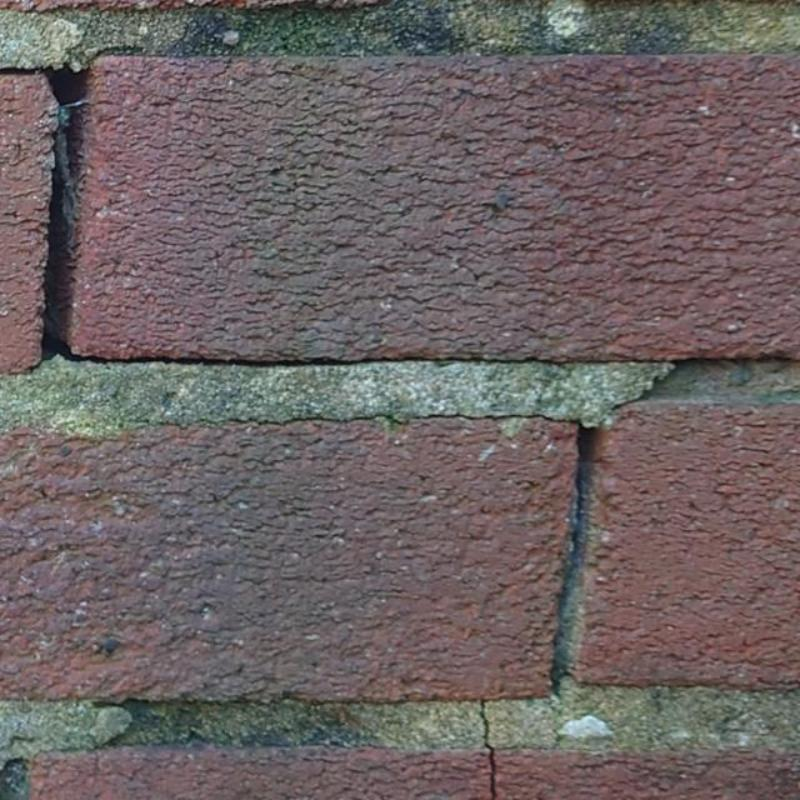crack: (1, 64, 88, 360), (552, 427, 595, 691), (194, 412, 582, 428), (81, 356, 680, 366), (478, 700, 497, 799)
